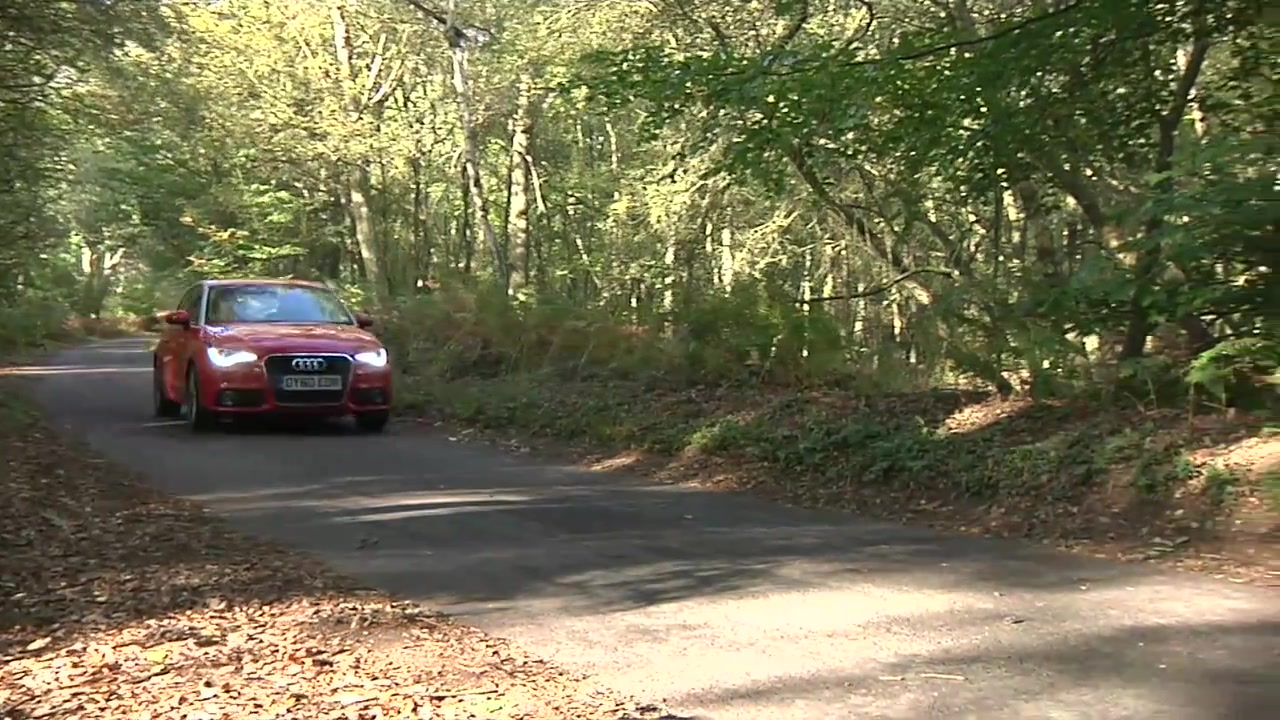car: (145, 275, 400, 430)
